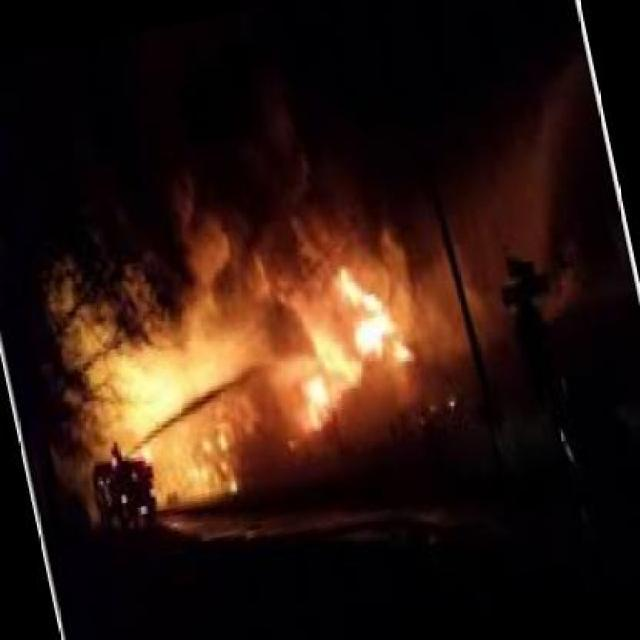Fire: (276, 278, 420, 428), (109, 348, 244, 496)
Smoke: (426, 67, 586, 320), (161, 119, 408, 272)
